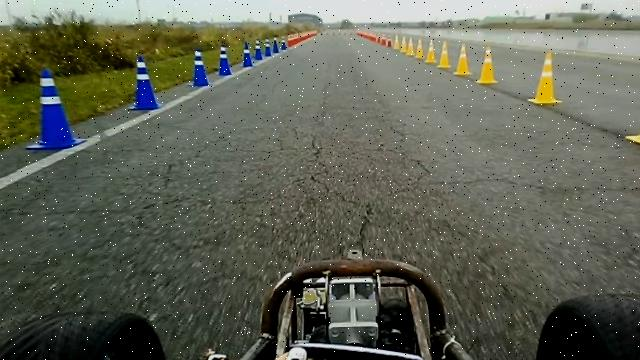blue cone: (25, 67, 87, 150), (128, 56, 162, 110), (188, 48, 210, 87), (217, 44, 232, 76), (241, 41, 253, 67), (254, 38, 263, 60), (264, 38, 272, 57), (272, 37, 279, 54), (281, 36, 287, 50)
yellow cone: (527, 52, 563, 105), (625, 65, 640, 147), (476, 46, 498, 84), (453, 42, 472, 76), (436, 40, 451, 68), (424, 39, 436, 64), (415, 38, 424, 59), (406, 37, 415, 56), (399, 36, 407, 53), (393, 34, 400, 51)
